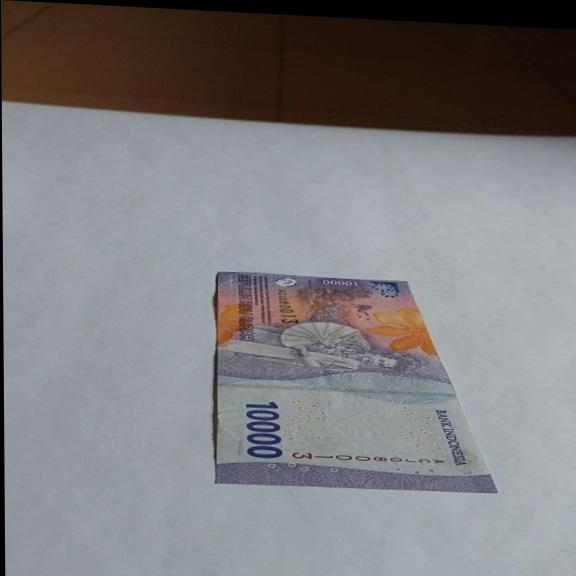Kertas: (211, 269, 498, 498), (243, 399, 284, 460)
